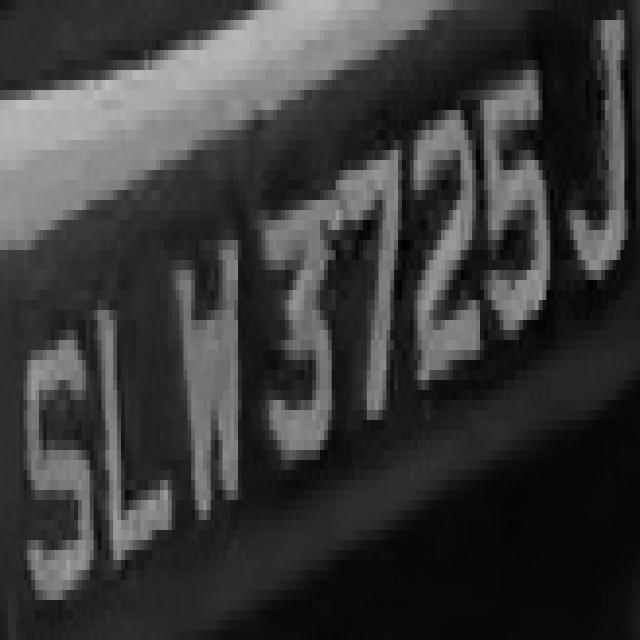2: (394, 90, 488, 420)
3: (250, 190, 328, 480)
5: (468, 30, 554, 370)
7: (324, 110, 402, 460)
J: (550, 10, 632, 300)
L: (90, 260, 172, 570)
S: (12, 290, 94, 620)
W: (168, 230, 250, 530)
